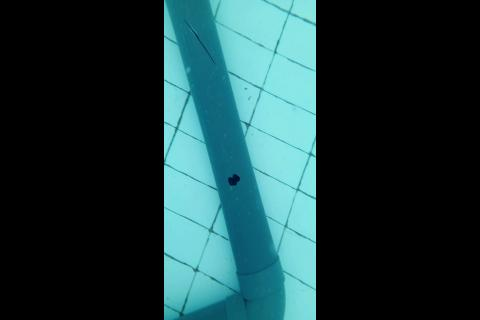kebocoran: (226, 172, 241, 187)
keretakan: (183, 17, 217, 66)
